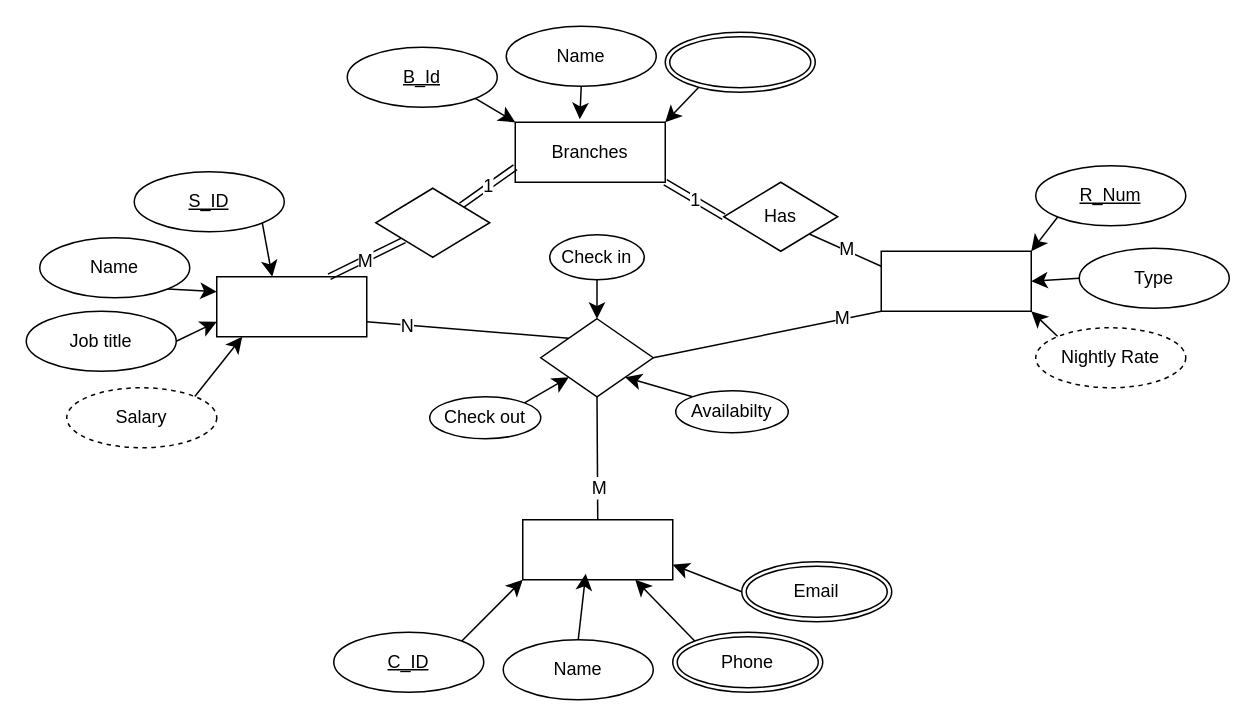
The diagram is 1256 pixels wide and 726 high, and some of its shapes have lost their labels. Here are the shapes that lost their labels. From the top down, the centre of each, then its label:
the point at 739,61: Location
the point at 432,222: Assign
the point at 955,280: Rooms
the point at 291,306: Staff
the point at 596,357: Booking
the point at 597,549: Customer
